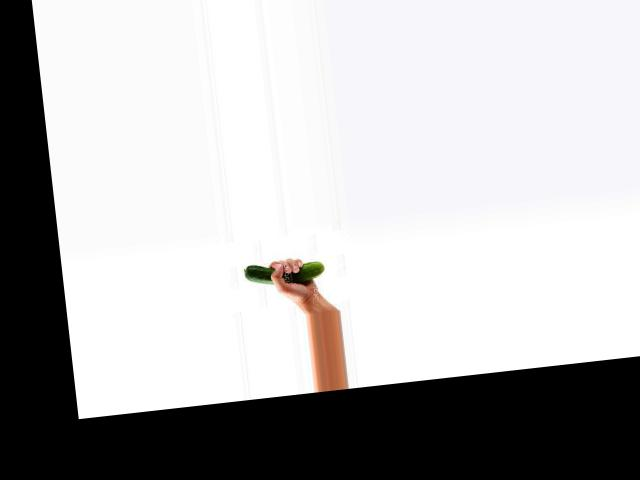cucumber: (243, 256, 325, 288)
